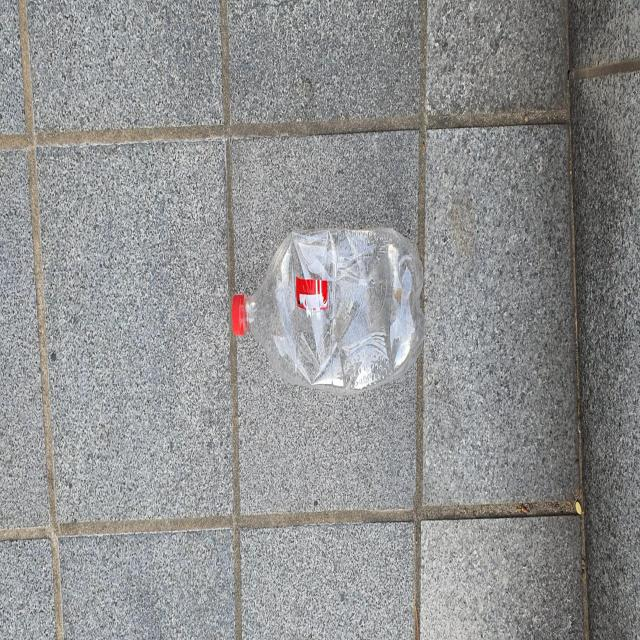plastic: (231, 225, 425, 393)
